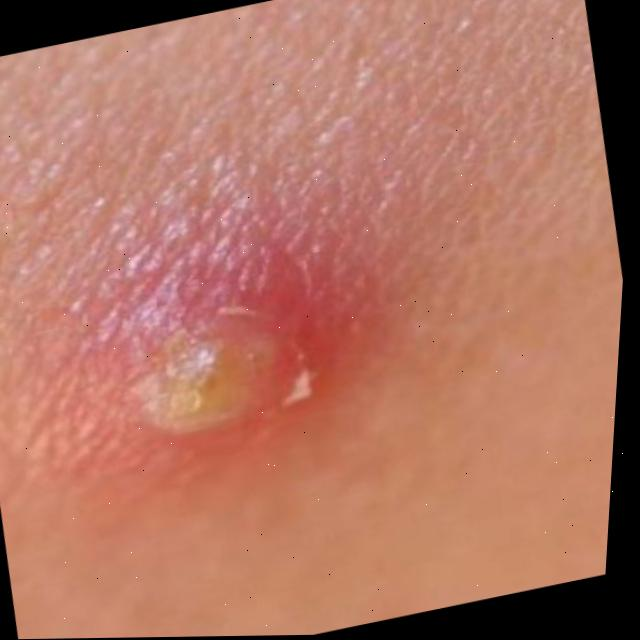Acne: (112, 281, 349, 457)
